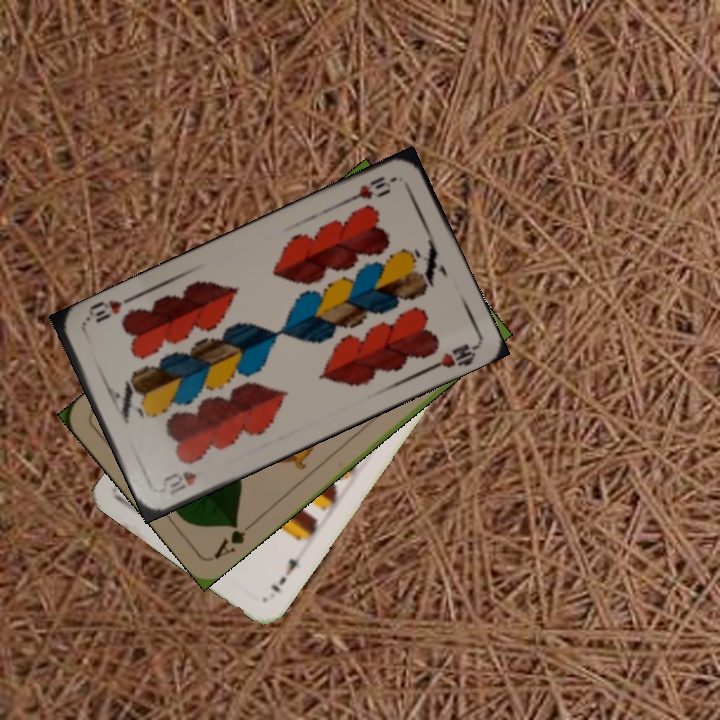E7: (267, 551, 305, 595)
GA: (209, 517, 258, 562)
H10: (343, 172, 399, 205), (158, 467, 199, 498)
